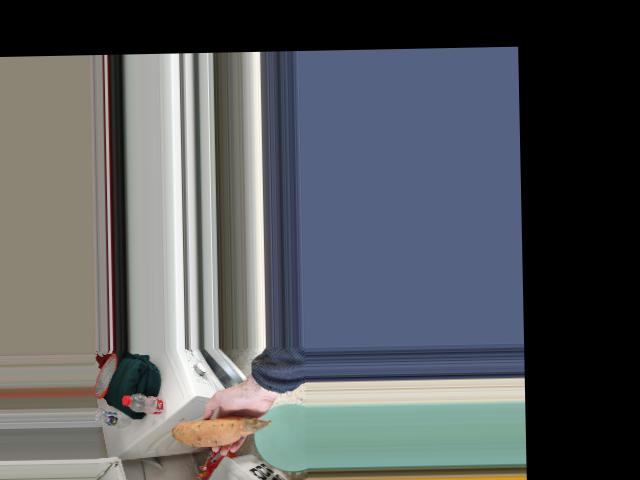sweet_potato: (179, 414, 266, 441)
